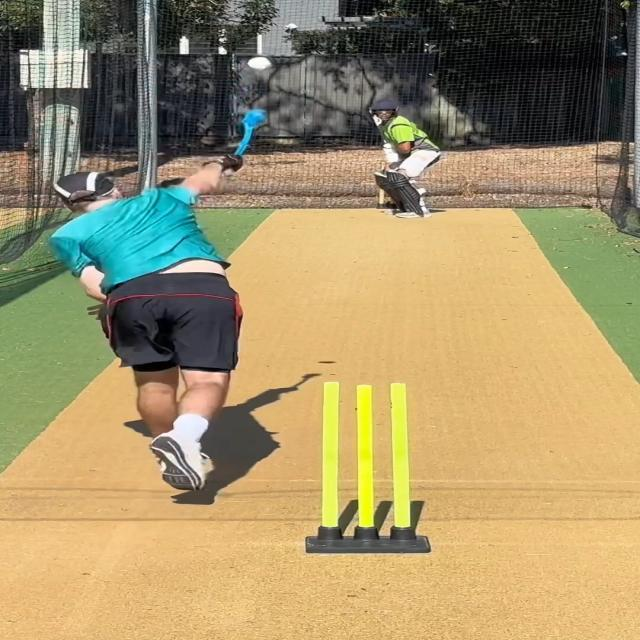ball: (246, 55, 276, 74)
stump: (299, 378, 435, 554)
